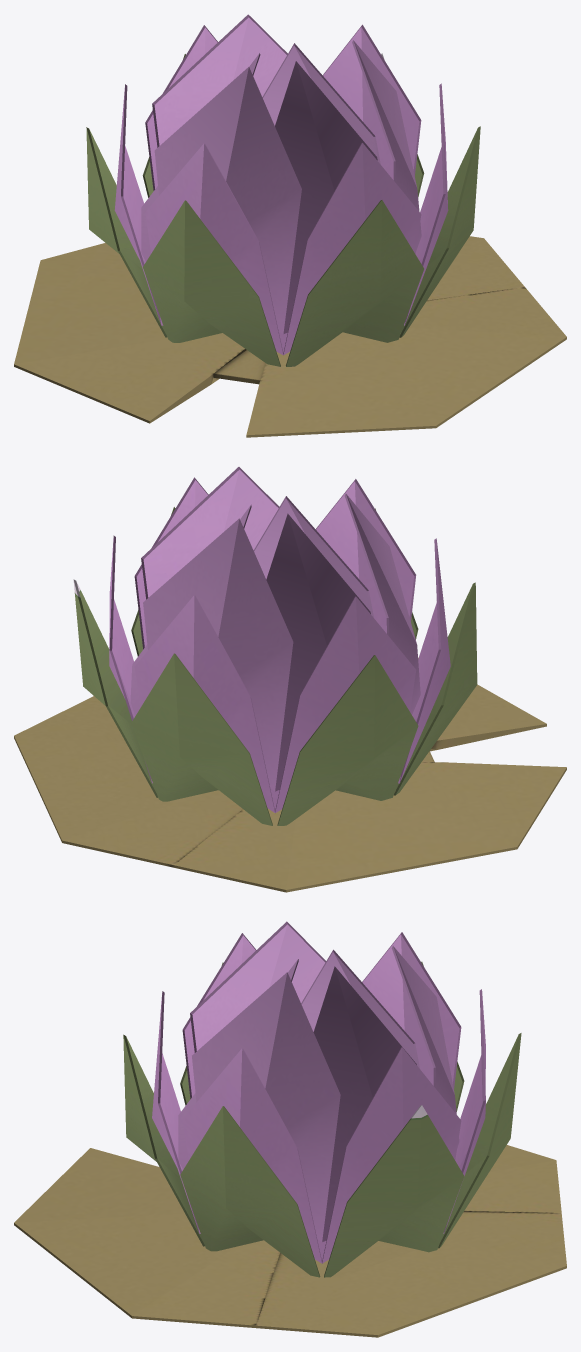
The model's file is water_lily_bottom.glb.
The picture shows the model from 3 angles, top to bottom: view 1: azimuth 30°, elevation 25°; view 2: azimuth 150°, elevation 25°; view 3: azimuth 270°, elevation 25°; orthographic projection. The views are drawn at different scales.
Parts seen in each view (by area): view 1: WaterLily, WaterLily_Leaf.003; view 2: WaterLily, WaterLily_Leaf.003; view 3: WaterLily, WaterLily_Leaf.003.
Boxes of the visible parts, x1,y1,x2,y2 form: WaterLily: (86,14,480,366); WaterLily_Leaf.003: (14,236,566,437); WaterLily: (73,467,477,825); WaterLily_Leaf.003: (14,657,566,892); WaterLily: (123,921,521,1277); WaterLily_Leaf.003: (14,1145,566,1337).
Size of the model in its own units: 1.81 by 1.02 by 1.79.
Materials: 1 (1 with a texture image).
